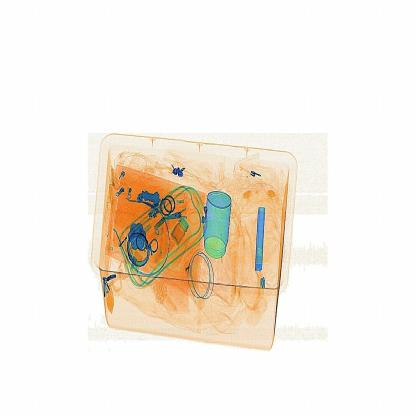pliers: (254, 204, 268, 275)
